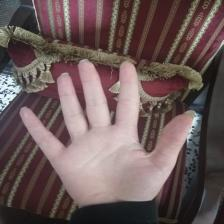five: (20, 57, 200, 202)
